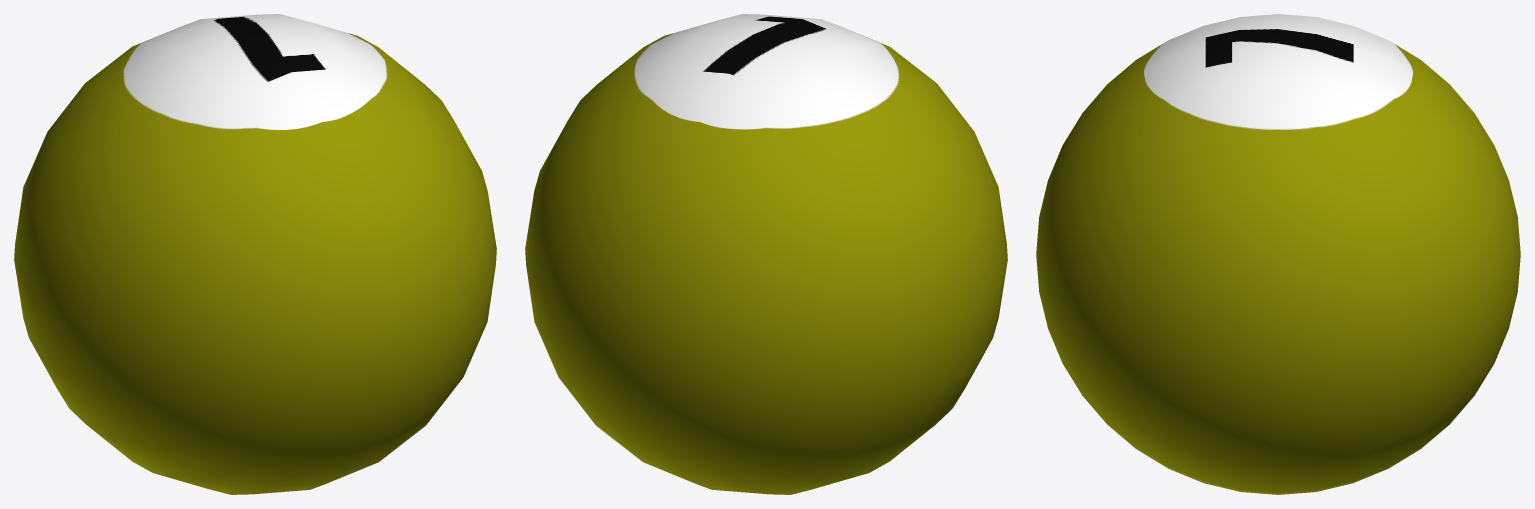
File: ball7.fbx
3 renders of one model, left to right at view 1: azimuth 30°, elevation 25°; view 2: azimuth 150°, elevation 25°; view 3: azimuth 270°, elevation 25°, orthographic.
Visible parts, largest first — view 1: pSphere1; view 2: pSphere1; view 3: pSphere1.
Boxes of the visible parts, bbox=[...] form: pSphere1: bbox=[14, 14, 496, 494]; pSphere1: bbox=[525, 14, 1007, 494]; pSphere1: bbox=[1036, 14, 1520, 494].
Size of the model in its own units: 2 by 2 by 2.
